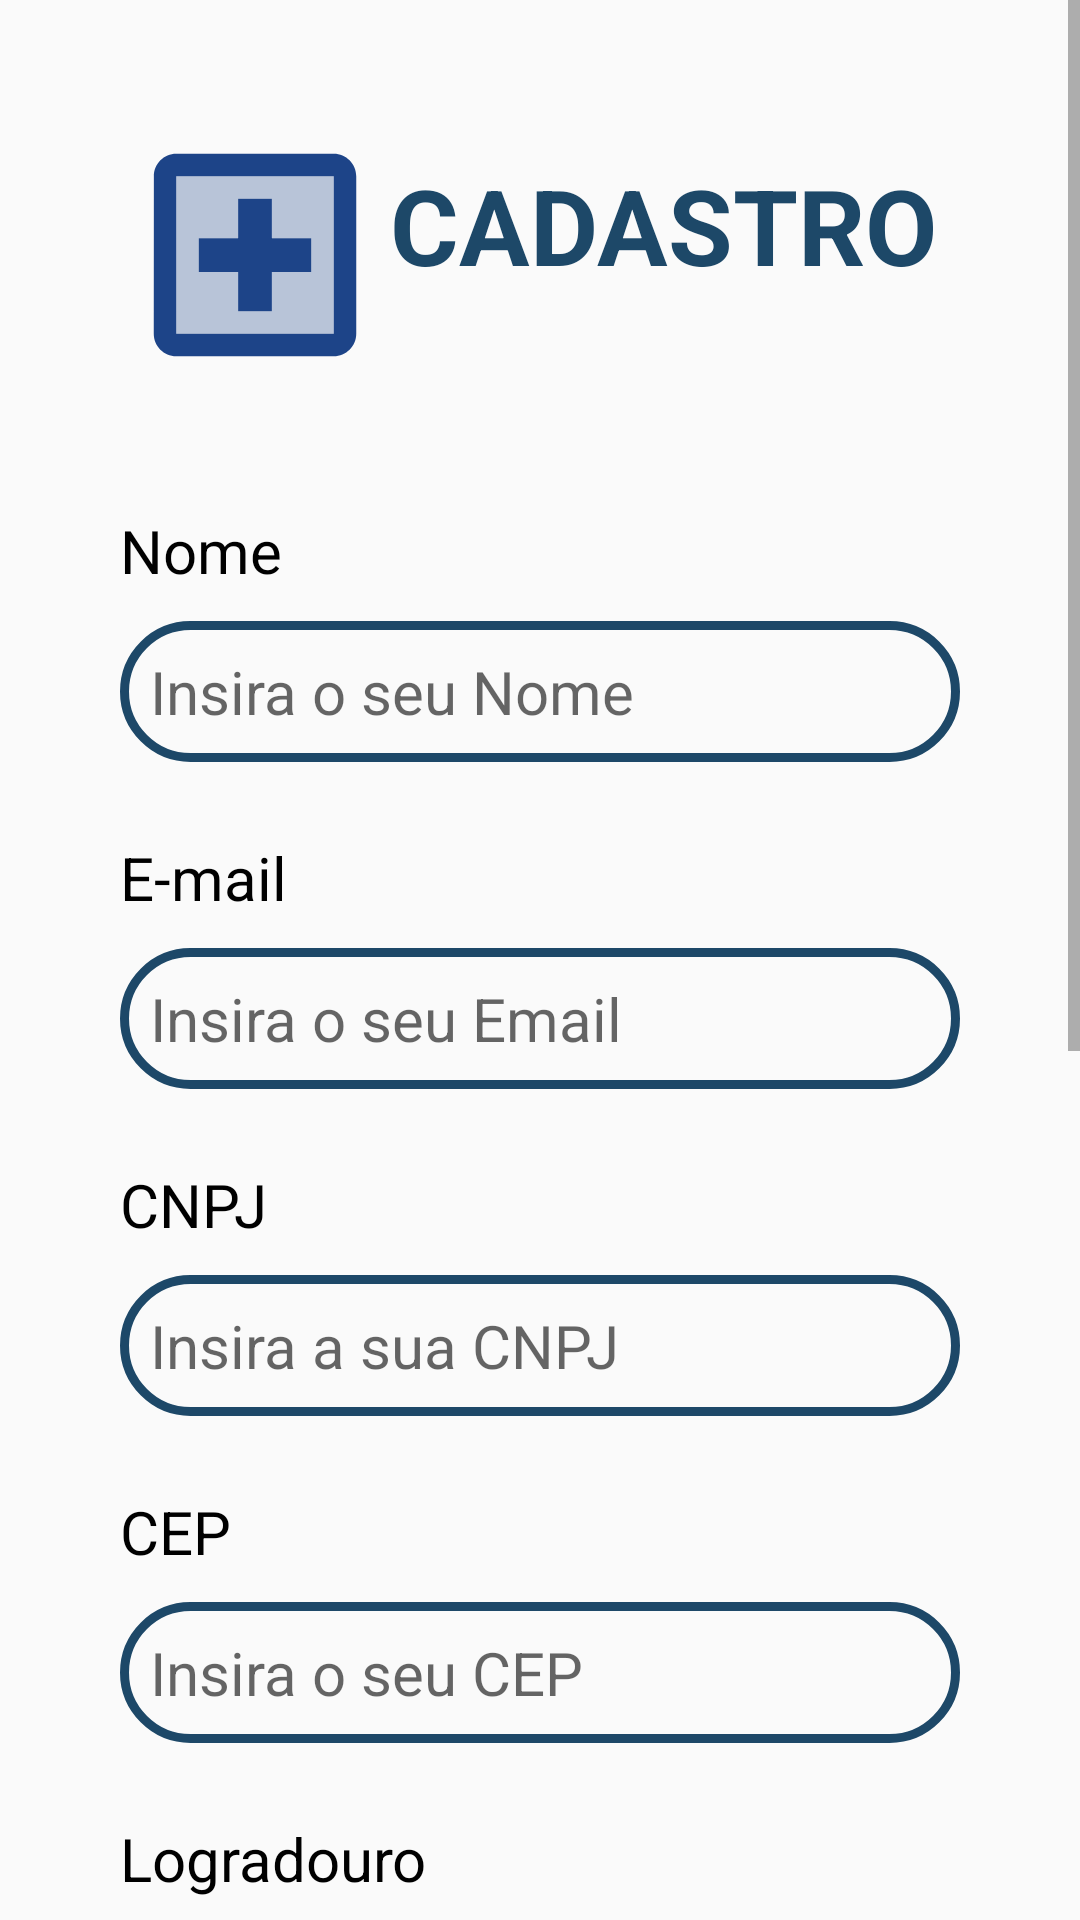

Icon bounding boxes for this 1080px×1920px phone screenshot, format (x1,y1,x2,y2):
hospital: (153,153,357,357)
